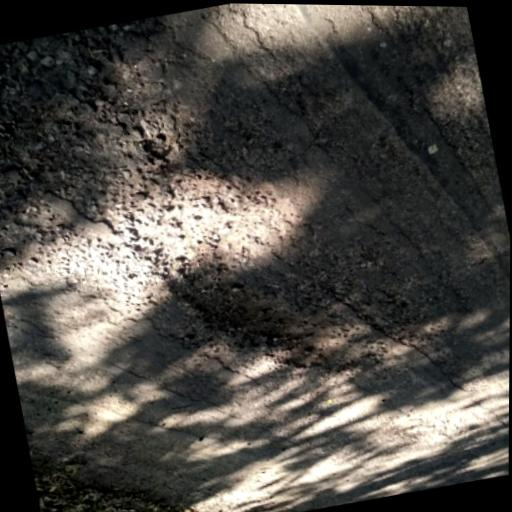pothole: (156, 230, 382, 402)
